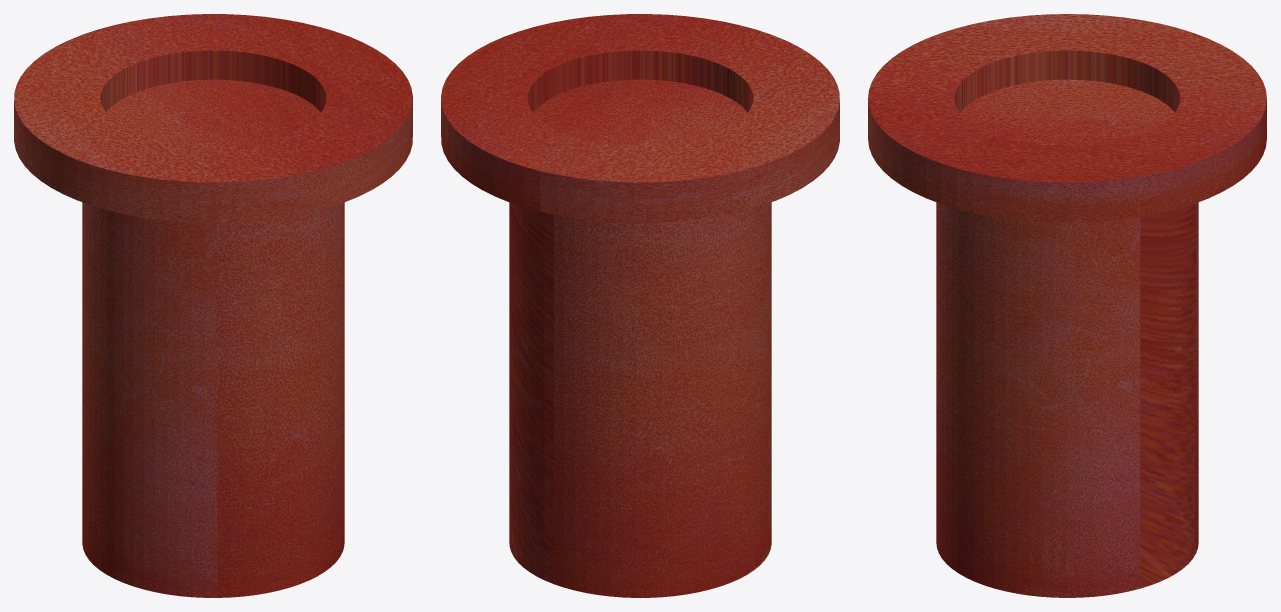
File: TuyauFuite.fbx
The picture shows the model from 3 angles, left to right: view 1: azimuth 30°, elevation 25°; view 2: azimuth 150°, elevation 25°; view 3: azimuth 270°, elevation 25°; orthographic projection.
Parts seen in each view (by area): view 1: Fuite; view 2: Fuite; view 3: Fuite.
Part boxes in pixels (x1,y1,x2,y2): Fuite: (14, 14, 412, 597); Fuite: (441, 14, 839, 597); Fuite: (868, 14, 1266, 597).
Bounding box in the file's own units: 21.4 × 26.29 × 21.4.
Materials: 1 (1 with a texture image).
